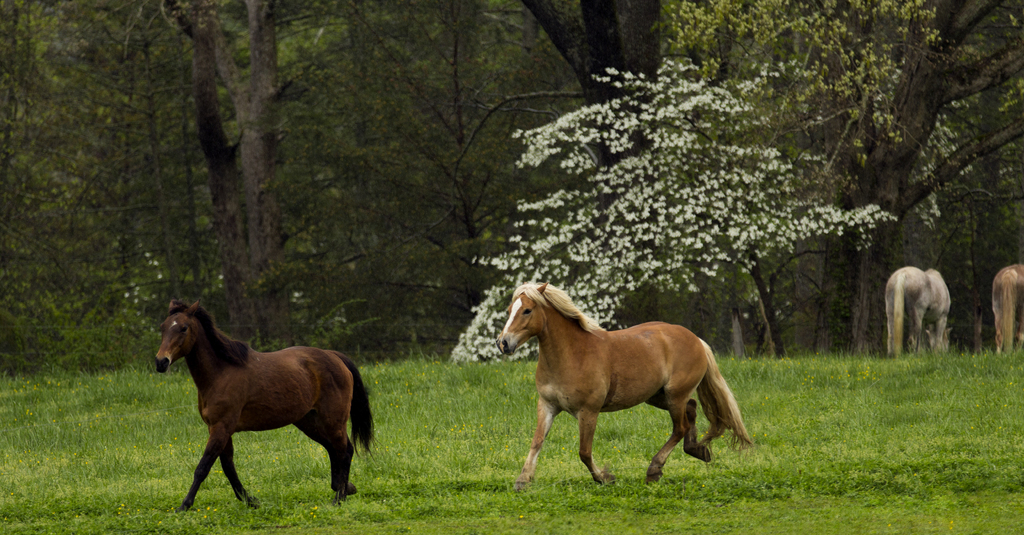horse: (494, 277, 751, 487), (151, 293, 376, 508), (886, 262, 953, 362)
